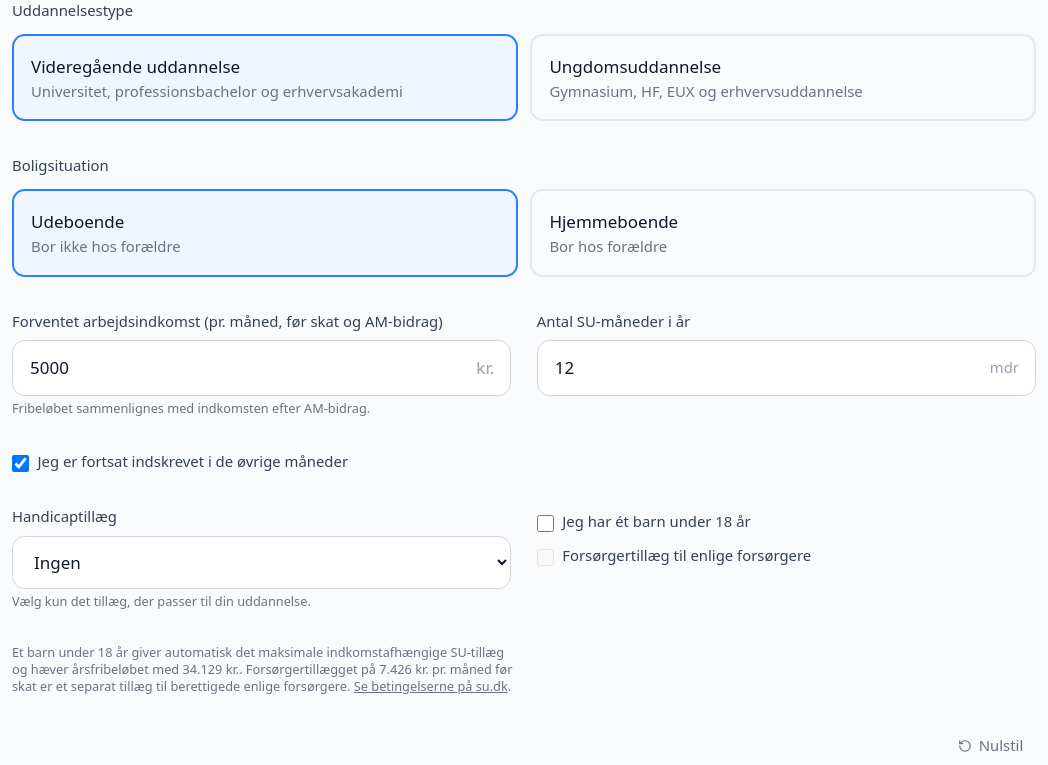
SUBeregner › mærker hjemmeboende som et grundsats-scenarie
What coordinates should you click on to do the following:
click the button "Hjemmeboende Bor hos forældre"
I would click on:
 (614, 222)
Its box is [530, 189, 1036, 277].
(page scrolled)
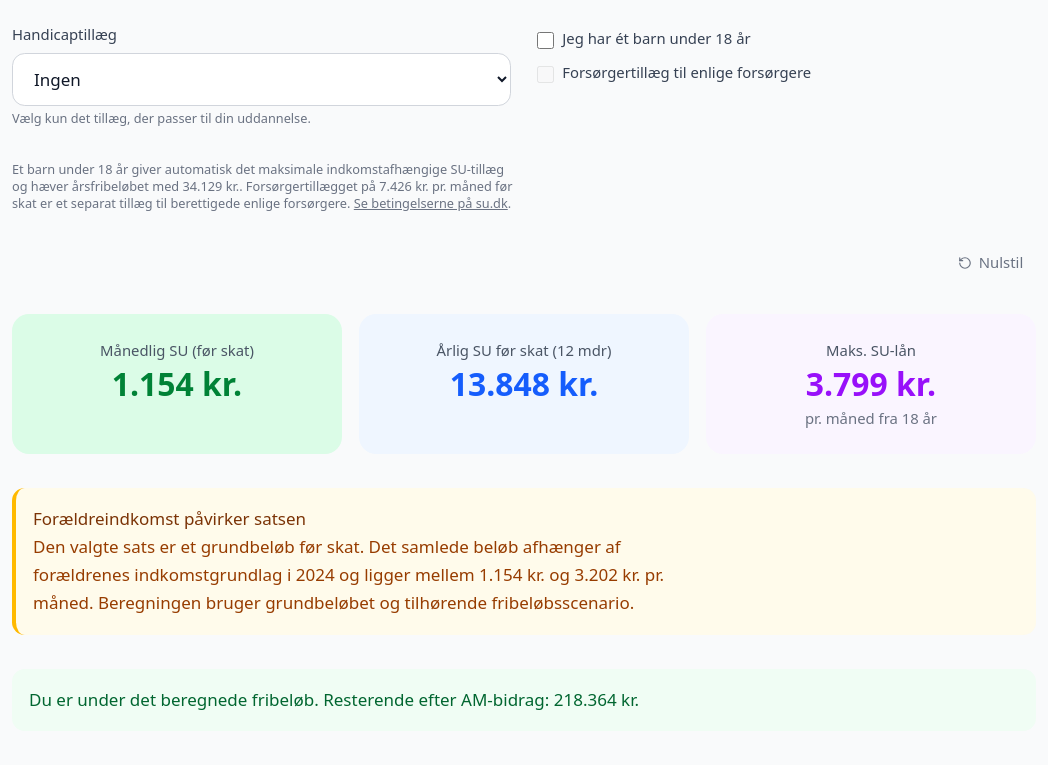
Expected: the text "Forældreindkomst påvirker satsen" is shown, [33, 507, 306, 530]
